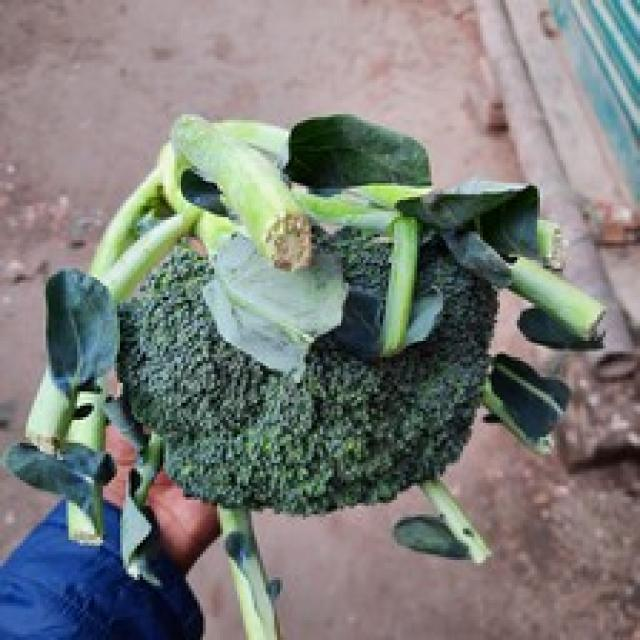Broccoli: (120, 228, 496, 513)
